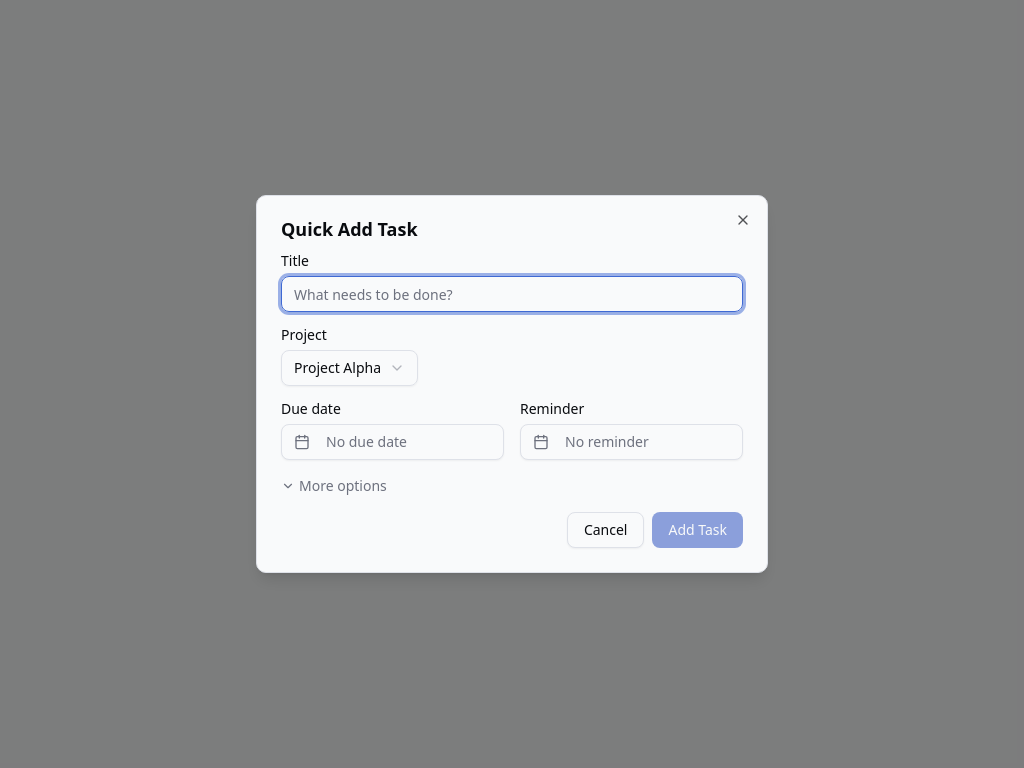
QuickAddTaskDialog › closes and resets on Cancel
The image size is (1024, 768).
Expected: the heading "Quick Add Task" is shown, [281,217,418,241]
Step 1. Type "Something" into the field labelled "Title" → x=512, y=294, box [281,276,743,312]
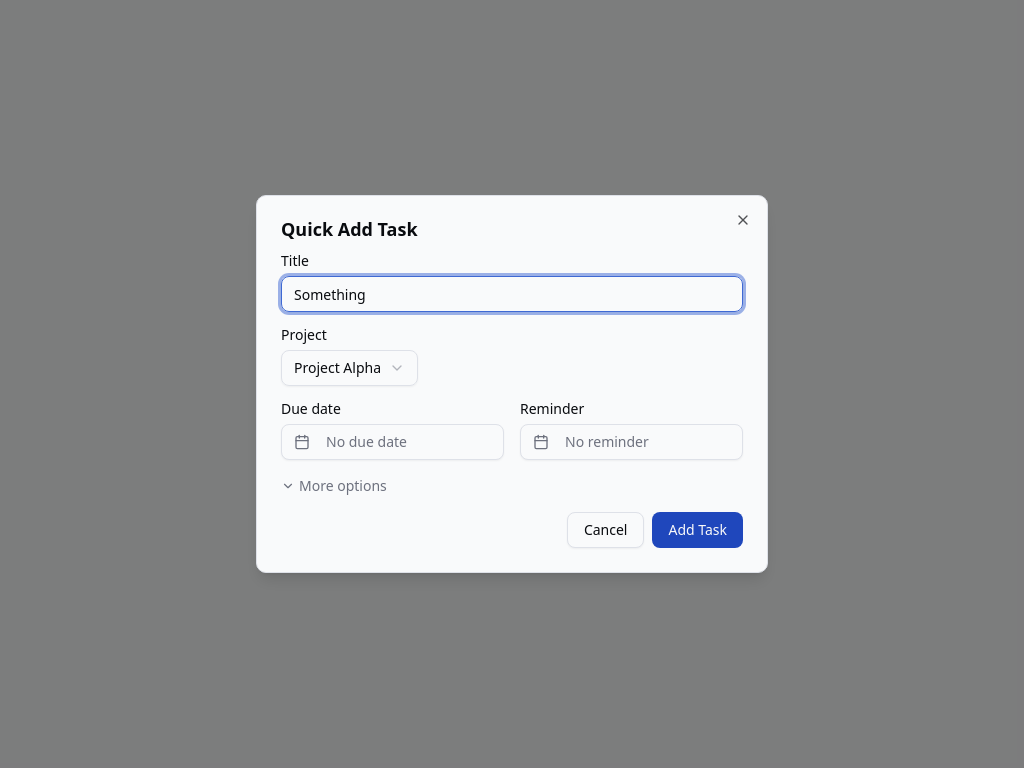
Step 2. Click the button "Cancel" → x=606, y=530, box [567,512,644,548]
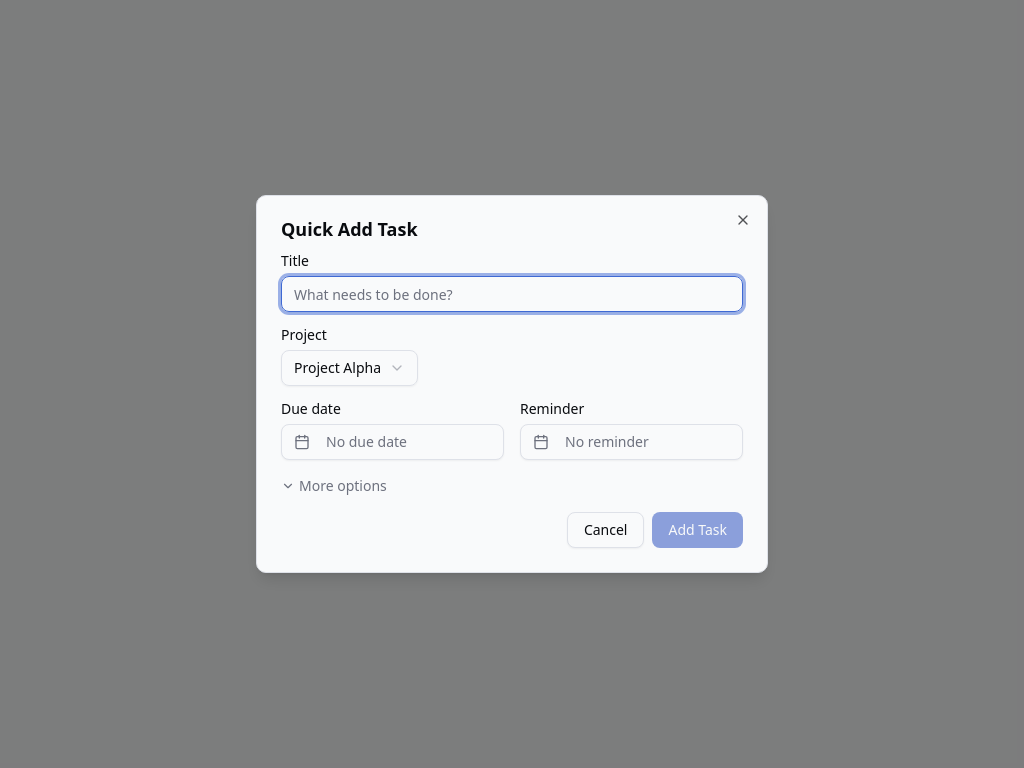
Expected: the heading "Quick Add Task" is shown, [281,217,418,241]
Expected: the field labelled "Title" is empty, [281,276,743,312]
